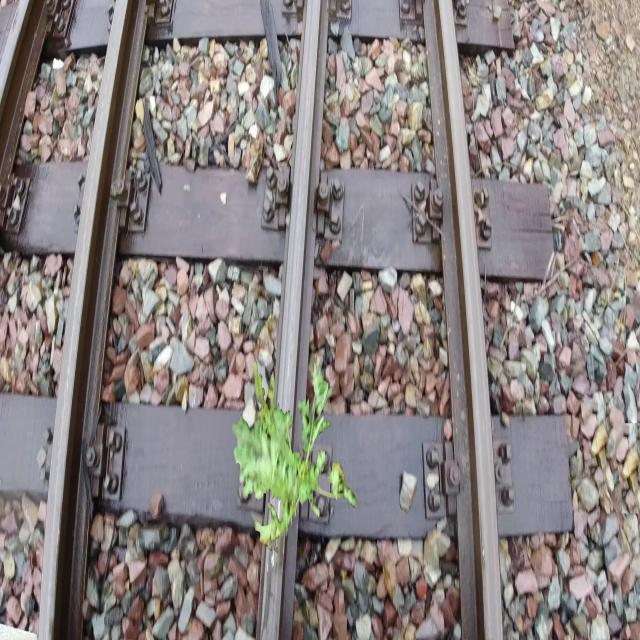Plant: (232, 358, 357, 554)
